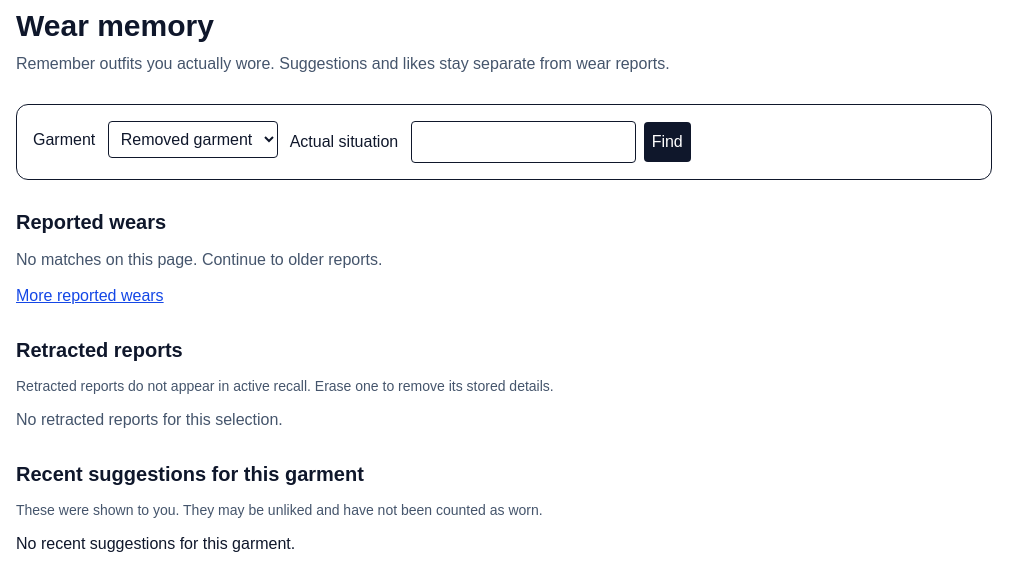
Scenario: ignores an older-page response after the situation filter changes
Click the button "More reported wears": {"x": 90, "y": 296} left=16, top=284, right=164, bottom=308
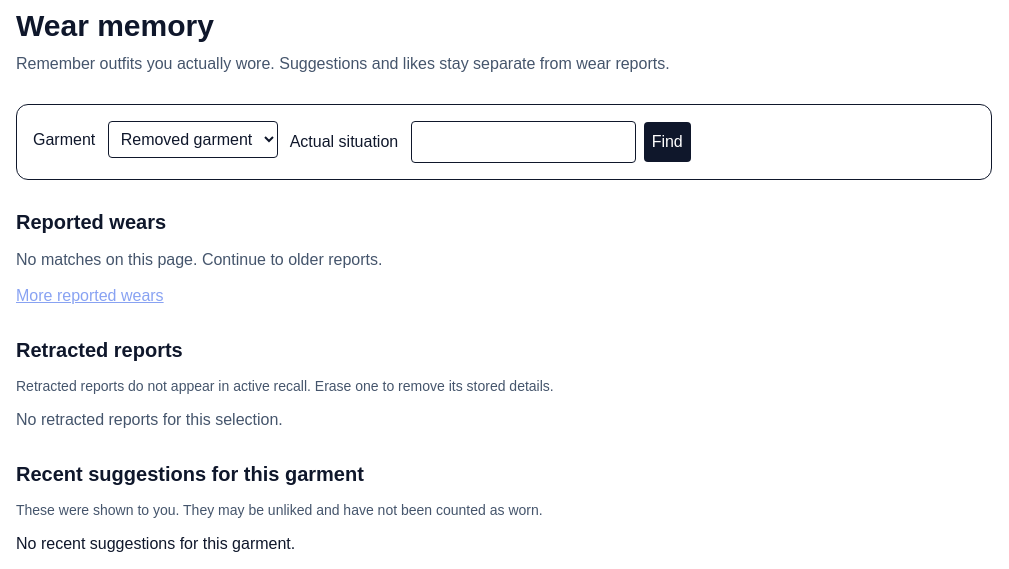
In the field named "Filter actual situation": {"x": 523, "y": 142} left=411, top=121, right=636, bottom=163, type "Dinner"
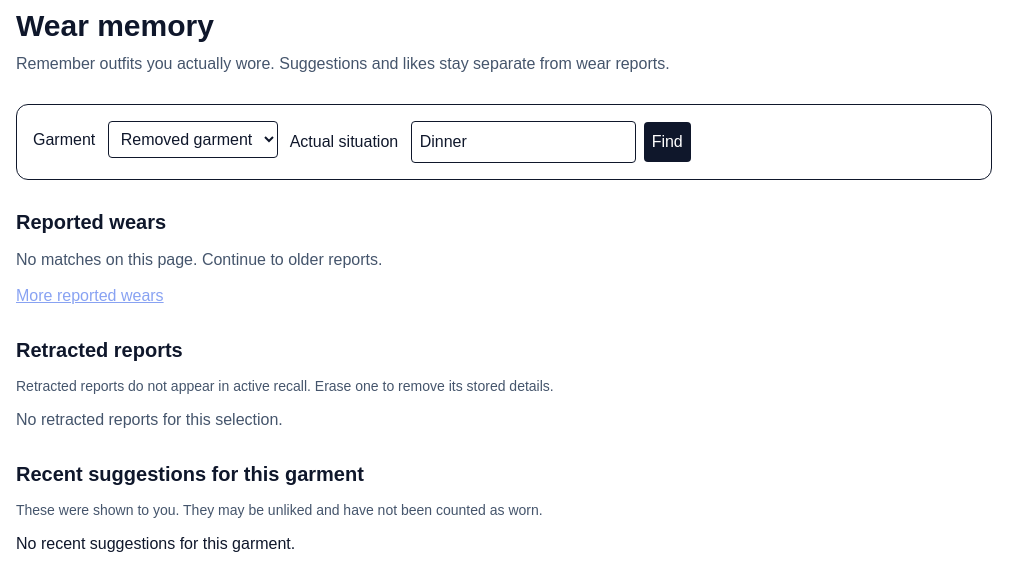
Click the button "Find": {"x": 667, "y": 142} left=644, top=122, right=691, bottom=162
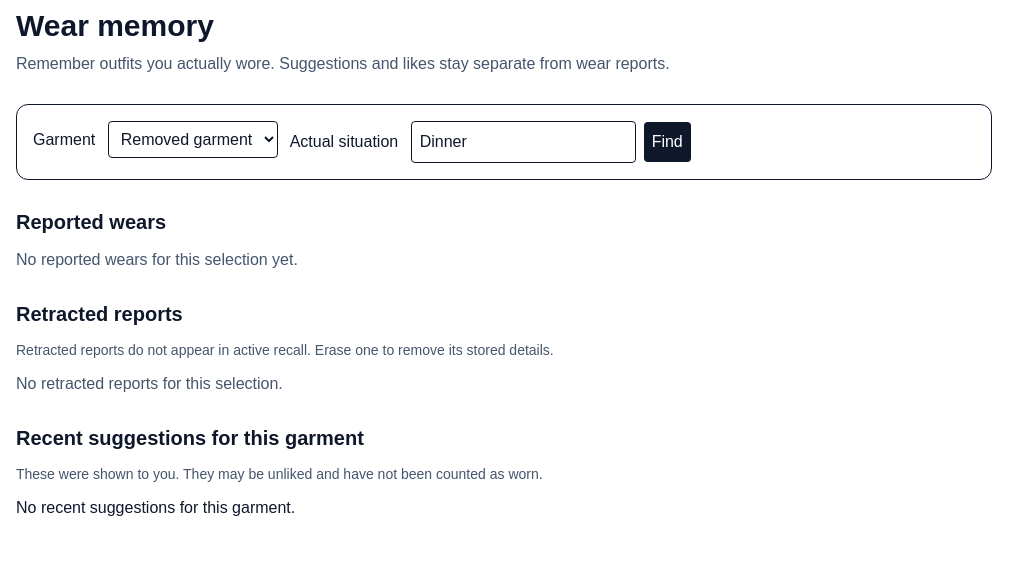
Now the text "No reported wears for this selection yet." is shown, box left=16, top=251, right=298, bottom=268
